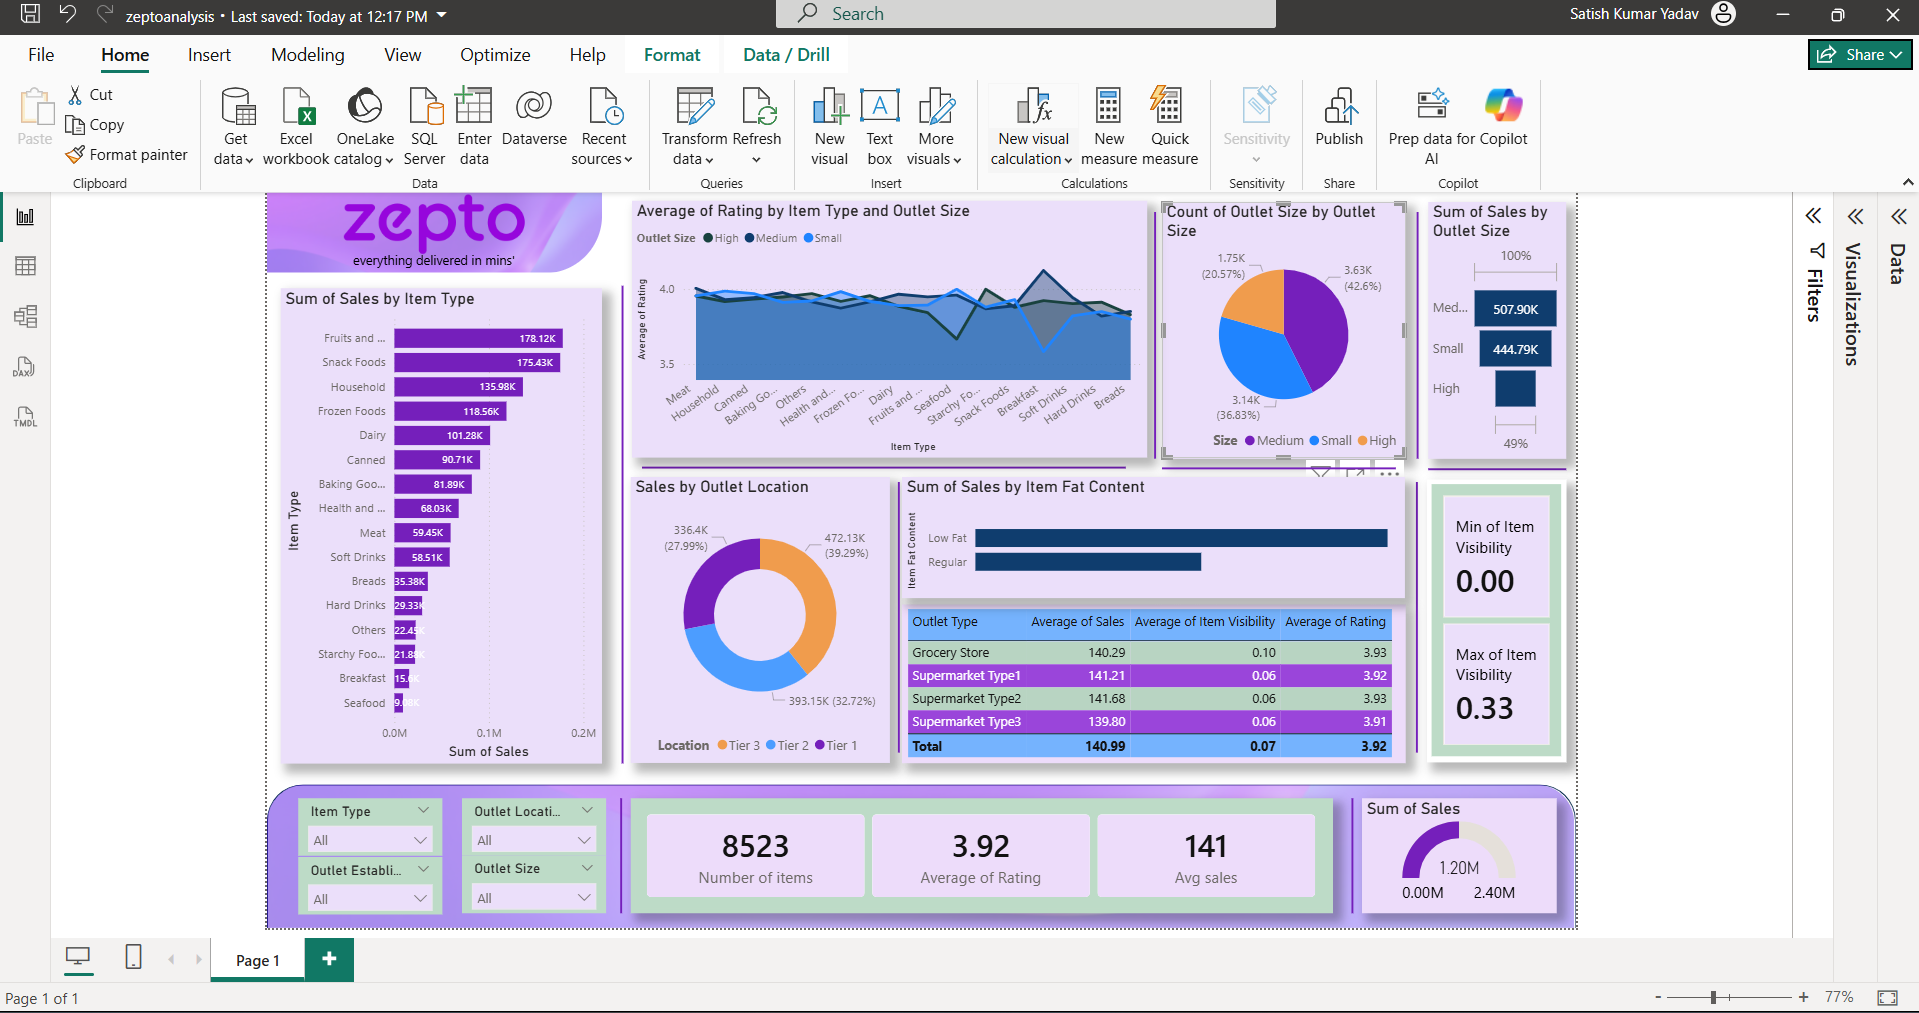

What the dashboard file says about the page in this screenshot:
{"tool":"powerbi","page":{"name":"Page 1","canvas":[1366,768],"ordinal":0},"visuals":[{"type":"textbox","box":[0,0,370.7,84.7],"z":0},{"type":"shape","box":[0,617.8,1365.8,150.7],"z":1000},{"type":"image","box":[0,618.6,1364.3,150],"z":2000},{"type":"clusteredBarChart","fields":{"Category":["BlinkIT Grocery Data.Item Type"],"Y":["Sum(BlinkIT Grocery Data.Sales)"]},"box":[14.3,100,335.1,496.1],"z":3000},{"type":"shape","box":[390.9,279.2,505.2,16.9],"z":4000},{"type":"shape","box":[350.6,97.4,40.3,498.7],"z":5000},{"type":"image","box":[0,0,349.3,84.6],"z":6000},{"type":"donutChart","title":"Sales by Outlet Location","fields":{"Y":["Sum(BlinkIT Grocery Data.Sales)"],"Category":["BlinkIT Grocery Data.Outlet Location Type"]},"box":[380,297.1,270,298.6],"z":7000},{"type":"gauge","fields":{"Y":["Sum(BlinkIT Grocery Data.Sales)"]},"box":[1142.9,632.9,202.9,120],"z":8000},{"type":"shape","box":[350,632.9,40,120],"z":9000},{"type":"slicer","fields":{"Values":["BlinkIT Grocery Data.Item Type"]},"box":[32.5,632.5,150,59.7],"z":10000},{"type":"slicer","fields":{"Values":["BlinkIT Grocery Data.Outlet Establishment Year"]},"box":[32.5,693.5,150,59.7],"z":11000},{"type":"slicer","fields":{"Values":["BlinkIT Grocery Data.Outlet Location Type"]},"box":[202.9,632.9,150,60],"z":12000},{"type":"slicer","fields":{"Values":["BlinkIT Grocery Data.Outlet Size"]},"box":[202.9,692.9,150,60],"z":13000},{"type":"shape","box":[1211.8,227.9,144.1,122.1],"z":14000},{"type":"tableEx","fields":{"Values":["Table1.Outlet Type","Avg(Table1.Sales)","Avg(Table1.Item Visibility)","Avg(Table1.Rating)"]},"box":[662.5,430.6,527.8,165.3],"z":15000},{"type":"pieChart","fields":{"Category":["BlinkIT Grocery Data.Outlet Size"],"Y":["CountNonNull(BlinkIT Grocery Data.Outlet Size)"]},"box":[933.8,10.3,254.4,267.6],"z":16000},{"type":"areaChart","fields":{"Y":["Avg(BlinkIT Grocery Data.Rating)"],"Category":["BlinkIT Grocery Data.Item Type"],"Series":["BlinkIT Grocery Data.Outlet Size"]},"box":[380.6,9.7,537.5,268.1],"z":17000},{"type":"funnel","fields":{"Category":["BlinkIT Grocery Data.Outlet Size"],"Y":["Sum(BlinkIT Grocery Data.Sales)"]},"box":[1211.8,10.3,144.1,267.6],"z":18000},{"type":"shape","box":[933.8,270.6,244.1,36.8],"z":19000},{"type":"shape","box":[1177.9,20.6,45.6,257.4],"z":20000},{"type":"shape","box":[1177.9,302.9,44.1,282.4],"z":21000},{"type":"shape","box":[636.8,302.9,45.6,282.4],"z":22000},{"type":"shape","box":[904.4,20.6,45.6,257.4],"z":23000},{"type":"cardVisual","fields":{"Data":["Min(Table1.Item Visibility)","Max(Table1.Item Visibility)"]},"box":[1210.3,300,145.6,295.6],"z":24000},{"type":"barChart","fields":{"Category":["Table1.Item Fat Content"],"Y":["Sum(Table1.Sales)"]},"box":[662.5,297.2,525,126.4],"z":25000},{"type":"shape","box":[1112.9,632.9,40,120],"z":26000},{"type":"cardVisual","fields":{"Data":["Table1.Number of items","Avg(Table1.Rating)","Table1.Avg sales"]},"box":[380,632.9,732.9,120],"z":27000},{"type":"image","box":[52.3,2.3,244.8,63.7],"z":28000},{"type":"textbox","box":[85,56.8,188.6,27.9],"z":29000}]}

Visuals, with their boxes on the page's 1366x768 design canvas (x1, y1, x2, y2). These are canvas units, not pixel positions in the 1919x1013 screenshot, which may show the page scaled, cropped or inside an application window:
textbox: (0, 0, 371, 85)
shape: (0, 618, 1366, 768)
image: (0, 619, 1364, 769)
clusteredBarChart - BlinkIT Grocery Data.Item Type x Sum(BlinkIT Grocery Data.Sales): (14, 100, 349, 596)
shape: (391, 279, 896, 296)
shape: (351, 97, 391, 596)
image: (0, 0, 349, 85)
"Sales by Outlet Location" donutChart: (380, 297, 650, 596)
gauge - Sum(BlinkIT Grocery Data.Sales): (1143, 633, 1346, 753)
shape: (350, 633, 390, 753)
slicer - BlinkIT Grocery Data.Item Type: (32, 632, 182, 692)
slicer - BlinkIT Grocery Data.Outlet Establishment Year: (32, 694, 182, 753)
slicer - BlinkIT Grocery Data.Outlet Location Type: (203, 633, 353, 693)
slicer - BlinkIT Grocery Data.Outlet Size: (203, 693, 353, 753)
shape: (1212, 228, 1356, 350)
tableEx - Table1.Outlet Type x Avg(Table1.Sales): (662, 431, 1190, 596)
pieChart - BlinkIT Grocery Data.Outlet Size x CountNonNull(BlinkIT Grocery Data.Outlet Size): (934, 10, 1188, 278)
areaChart - Avg(BlinkIT Grocery Data.Rating) x BlinkIT Grocery Data.Item Type: (381, 10, 918, 278)
funnel - BlinkIT Grocery Data.Outlet Size x Sum(BlinkIT Grocery Data.Sales): (1212, 10, 1356, 278)
shape: (934, 271, 1178, 307)
shape: (1178, 21, 1224, 278)
shape: (1178, 303, 1222, 585)
shape: (637, 303, 682, 585)
shape: (904, 21, 950, 278)
cardVisual - Min(Table1.Item Visibility) x Max(Table1.Item Visibility): (1210, 300, 1356, 596)
barChart - Table1.Item Fat Content x Sum(Table1.Sales): (662, 297, 1188, 424)
shape: (1113, 633, 1153, 753)
cardVisual - Table1.Number of items x Avg(Table1.Rating): (380, 633, 1113, 753)
image: (52, 2, 297, 66)
textbox: (85, 57, 274, 85)
